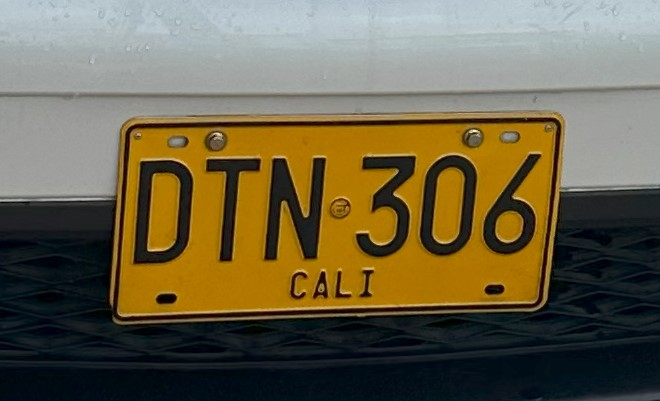number plate: (110, 113, 562, 322)
